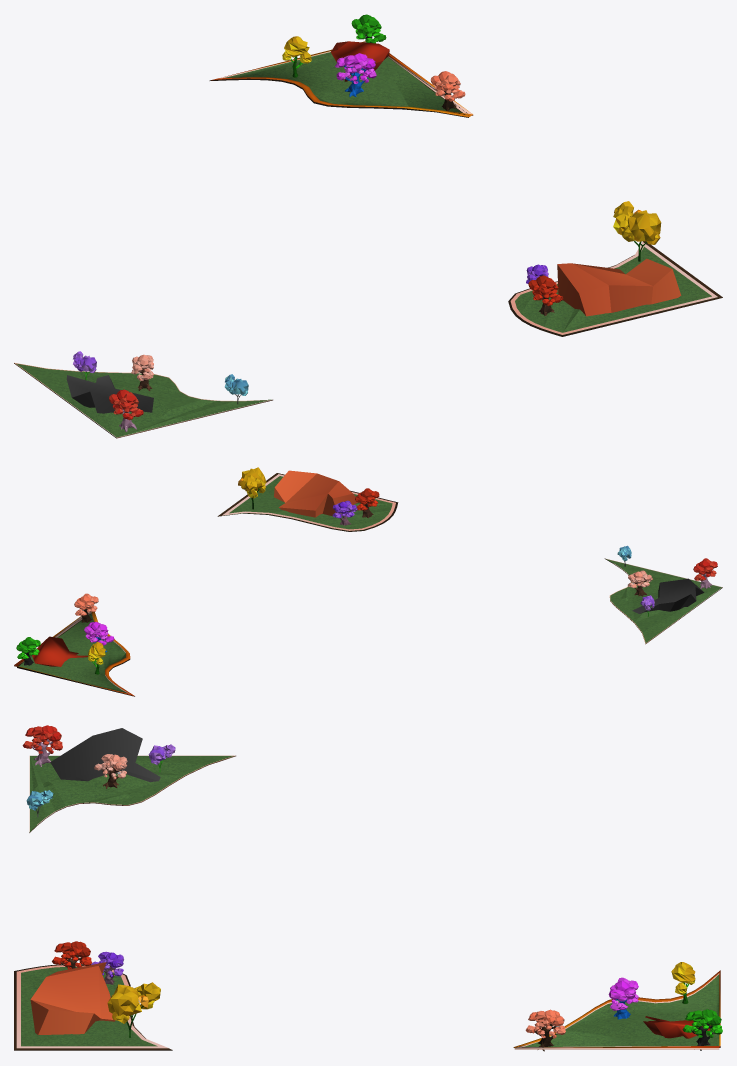
Rendered from Open_Area.glb.
3 views of the same model, one above another, from view 1: azimuth 30°, elevation 25°; view 2: azimuth 150°, elevation 25°; view 3: azimuth 270°, elevation 25° (orthographic). The views are drawn at different scales.
Parts seen in each view (by area): view 1: polySurface878; view 2: polySurface878; view 3: polySurface878.
Boxes of the visible parts, left/top/right/bottom form: polySurface878: left=14, top=14, right=722, bottom=438; polySurface878: left=14, top=467, right=722, bottom=696; polySurface878: left=14, top=725, right=722, bottom=1051.
Size of the model in its own units: 287 by 26.1 by 289.
Materials: 2 (2 with a texture image).
